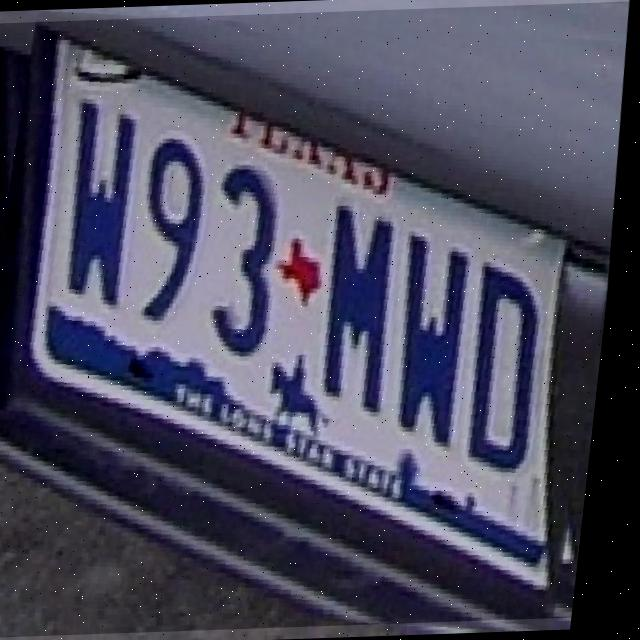LicensePlate: (0, 1, 640, 639)
